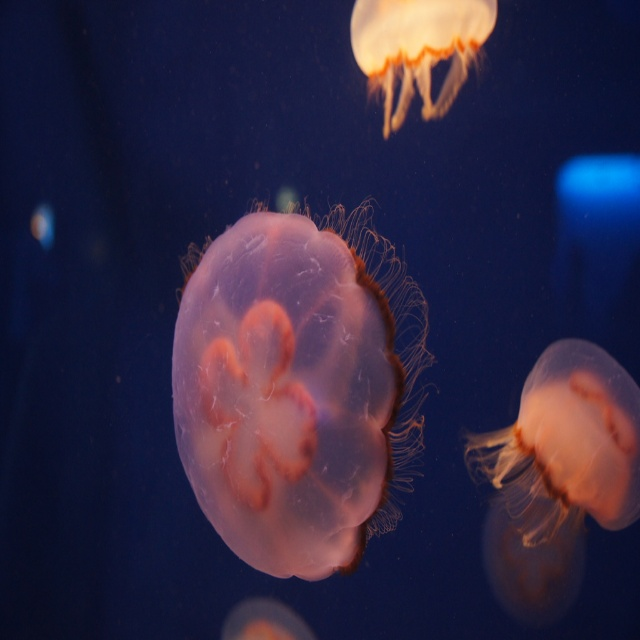Jellyfish: (174, 191, 439, 579), (462, 339, 640, 555), (348, 0, 498, 141)
